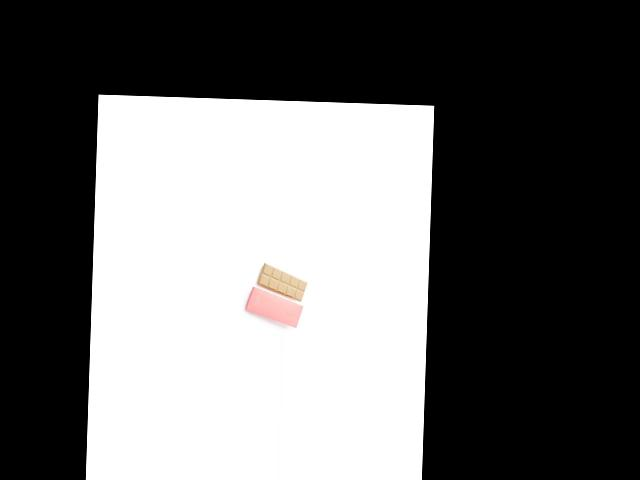chocolate: (253, 262, 308, 304)
